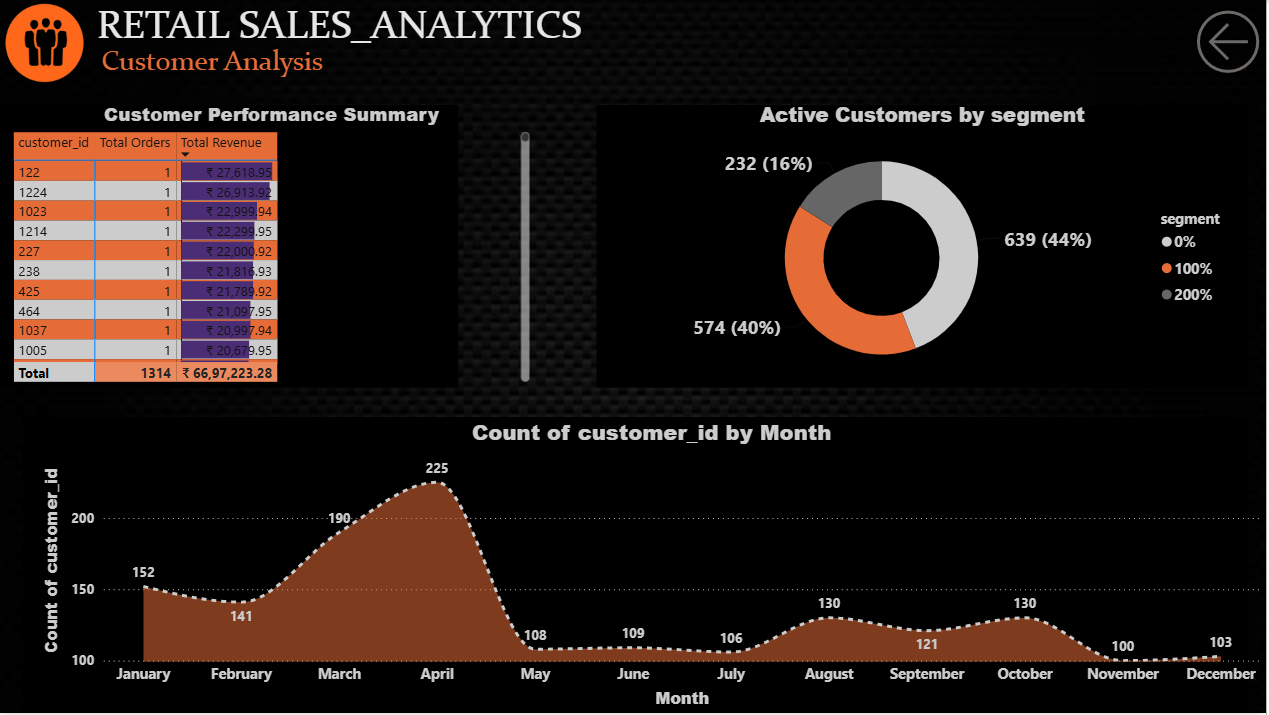

The page's visual inventory and layout, read from the dashboard file:
{"tool":"powerbi","page":{"name":"Customer Analysis","canvas":[1280,720],"ordinal":3},"visuals":[{"type":"shape","box":[0,105.8,464.9,285.4],"z":0},{"type":"shape","box":[24.6,421.4,1237.8,298.6],"z":1000},{"type":"shape","box":[604.7,105.8,657.6,285.4],"z":2000},{"type":"pivotTable","title":"Customer Performance Summary","fields":{"Rows":["retail_sales customer_segments.customer_id"],"Values":["Order Items.Total Orders","Order Items.Total Revenue"]},"box":[11.3,102,531,289.1],"z":3000},{"type":"donutChart","fields":{"Category":["retail_sales customer_segments.segment"],"Y":["retail_sales orders.Active Customers"]},"box":[604.7,102,657.6,289.1],"z":4000},{"type":"lineChart","fields":{"Category":["retail_sales orders.order date.Variation.Date Hierarchy.Month"],"Y":["CountNonNull(retail_sales orders.customer_id)"]},"box":[41.6,421.4,1237.8,298.6],"z":5000},{"type":"image","box":[0,0,94.5,88.8],"z":6000},{"type":"shape","title":"RETAIL SALES_ANALYTICS","box":[100.2,0,568.8,58.6],"z":7000},{"type":"shape","title":"Customer Analysis","box":[103.9,43.5,226.8,39.7],"z":8000},{"type":"actionButton","box":[1201.7,0,79,84.7],"z":9000}]}

Visuals, with their boxes in screenshot pixels (x1, y1, x2, y2), scaled from the page's 1280x720 canvas onto the 1269x715 screenshot:
shape: BBox(0, 105, 461, 388)
shape: BBox(24, 418, 1252, 714)
shape: BBox(600, 105, 1251, 388)
"Customer Performance Summary" pivotTable: BBox(11, 101, 538, 388)
donutChart - retail_sales customer_segments.segment x retail_sales orders.Active Customers: BBox(600, 101, 1251, 388)
lineChart - retail_sales orders.order date.Variation.Date Hierarchy.Month x CountNonNull(retail_sales orders.customer_id): BBox(41, 418, 1268, 714)
image: BBox(0, 0, 94, 88)
"RETAIL SALES_ANALYTICS" shape: BBox(99, 0, 663, 58)
"Customer Analysis" shape: BBox(103, 43, 328, 83)
actionButton: BBox(1191, 0, 1268, 84)
